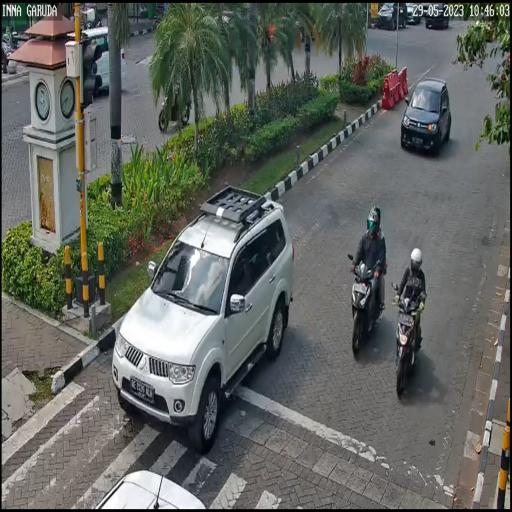mobil: (112, 188, 294, 452), (400, 78, 451, 156)
motor: (392, 284, 428, 401), (347, 253, 386, 356)
